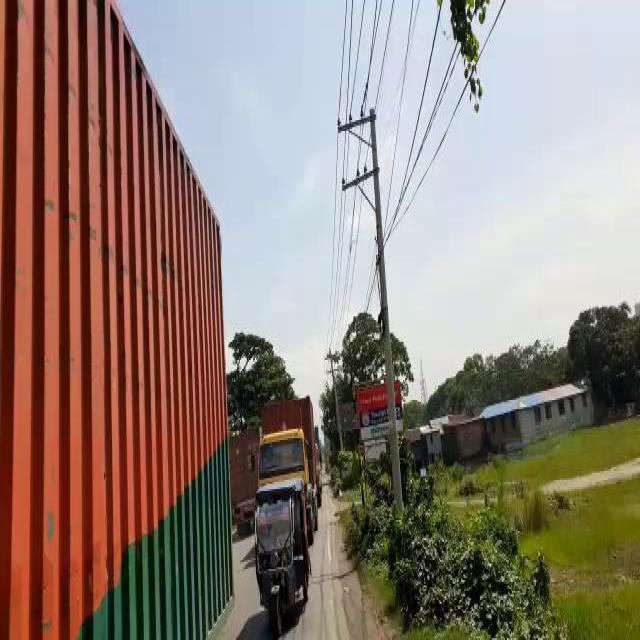auto rickshaw: (253, 480, 313, 636)
truck: (10, 2, 234, 638), (257, 399, 319, 536), (227, 434, 257, 530)
